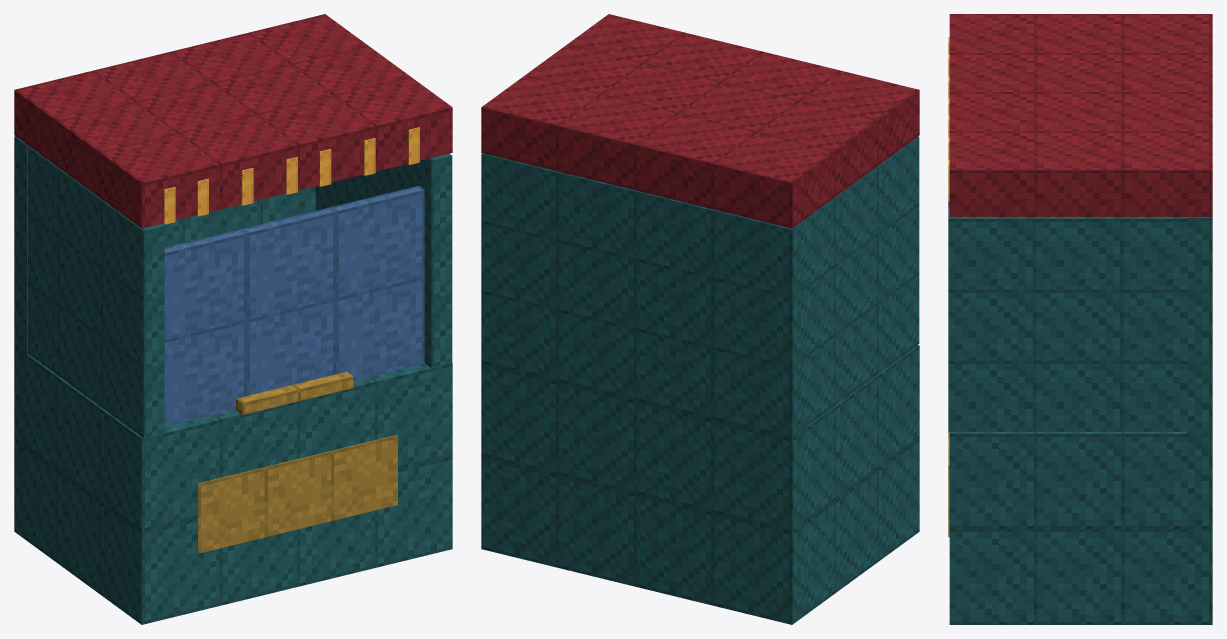
Rendered from ticketBooth_2.glb.
The picture shows the model from 3 angles, left to right: view 1: azimuth 30°, elevation 25°; view 2: azimuth 150°, elevation 25°; view 3: azimuth 270°, elevation 25°; orthographic projection. The views are drawn at different scales.
Parts seen in each view (by area): view 1: ticketBooth_2; view 2: ticketBooth_2; view 3: ticketBooth_2.
Part boxes in pixels (x1,y1,x2,y2): ticketBooth_2: [14, 14, 452, 624]; ticketBooth_2: [481, 14, 919, 624]; ticketBooth_2: [948, 14, 1212, 624].
Size of the model in its own units: 1.75 by 2.38 by 1.25.
1 material, 1 textured.
